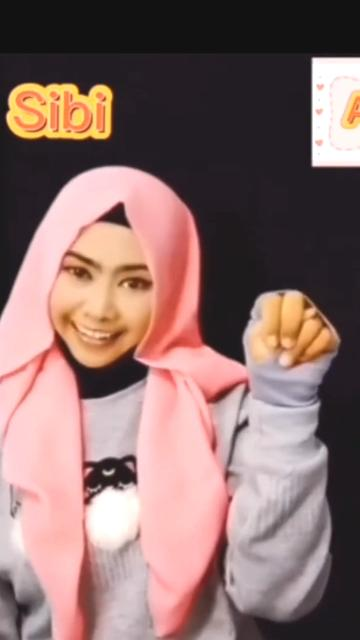N: (241, 290, 345, 384)
